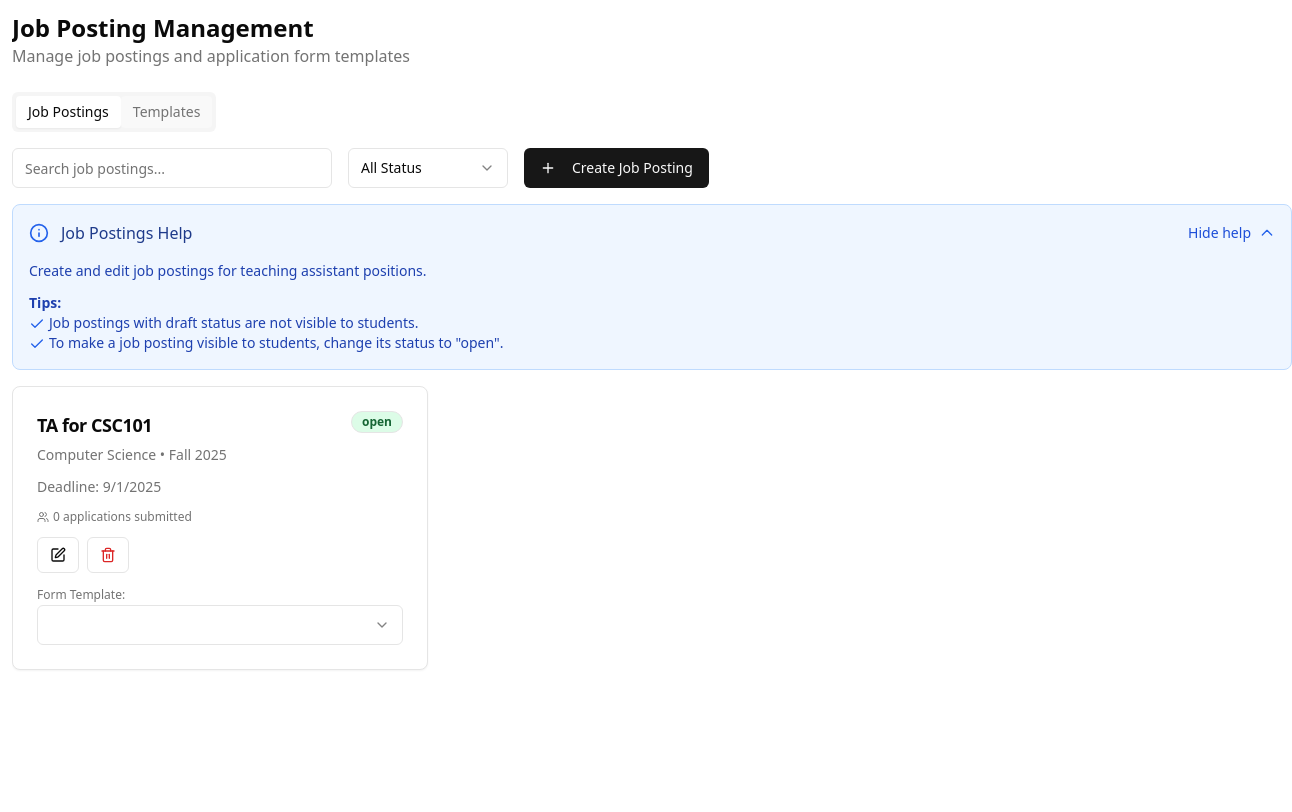
JobManagementPage › displays templates in the Templates tab
Expected: the text "TA for CSC101" is shown, top-left (37, 411), bottom-right (152, 439)
Click the tab "Templates" at {"x": 167, "y": 112}, box top-left (121, 96), bottom-right (212, 128)
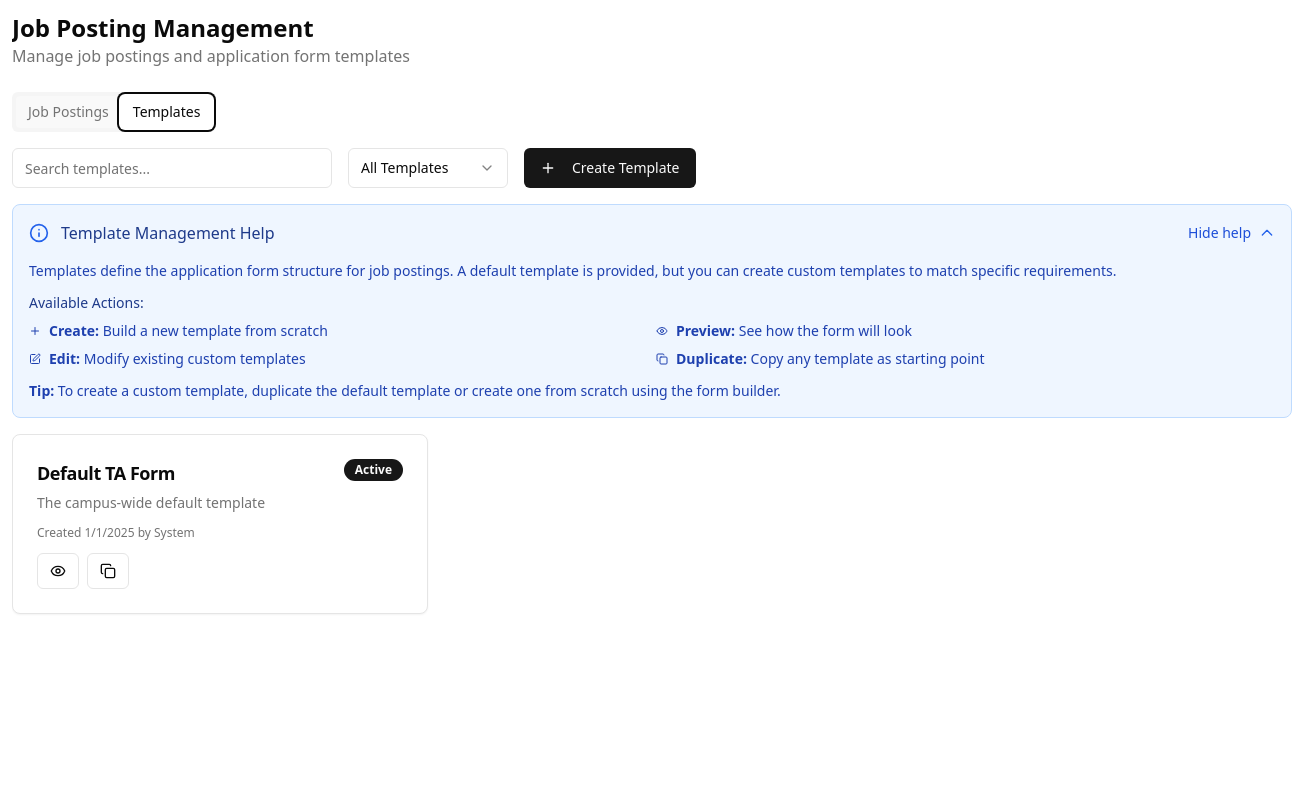
Result: the text "Default TA Form" is shown at top-left (37, 459), bottom-right (175, 487)
